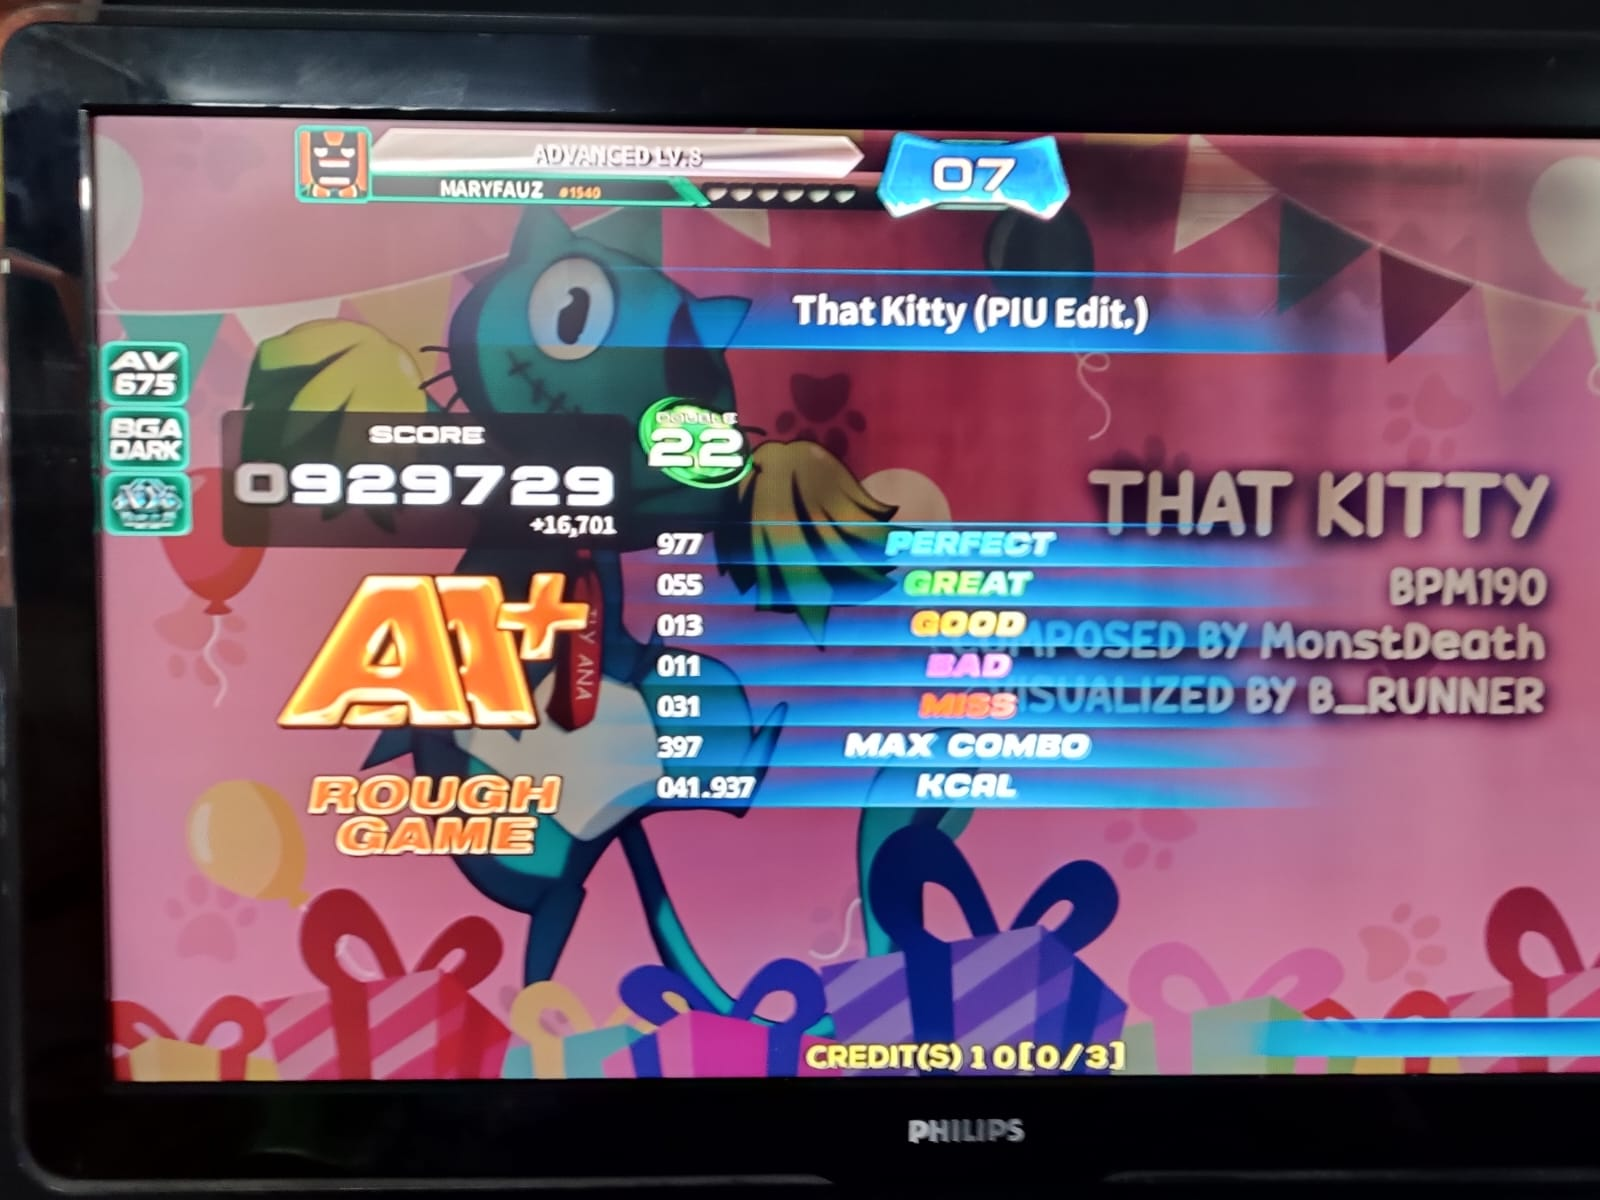difficulty: (640, 382, 757, 490)
fullscore: (0, 0, 1482, 1186)
rank: (252, 562, 598, 747)
score: (218, 406, 626, 507)
song_name: (678, 246, 1323, 334)
